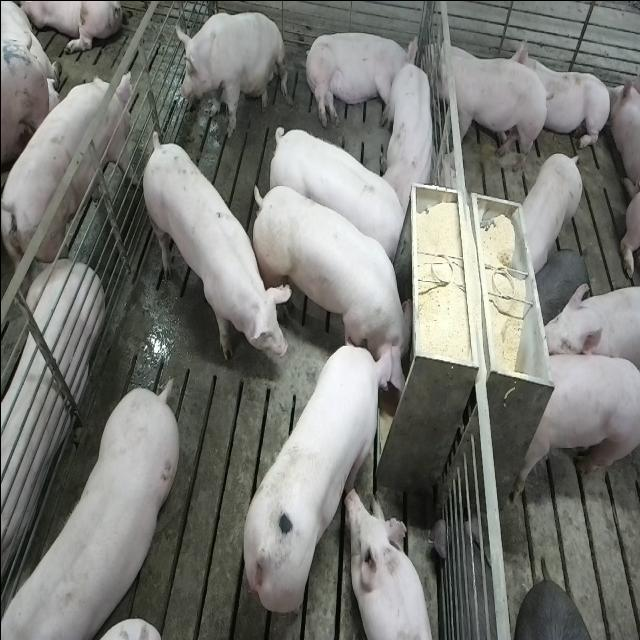Feeding: (240, 336, 397, 620), (253, 178, 420, 386)
Lateral_lying: (0, 256, 101, 604), (302, 28, 418, 128)
Sitting: (173, 8, 286, 138)
Standing: (0, 380, 176, 640), (136, 129, 284, 384), (0, 67, 132, 276), (268, 122, 408, 264), (509, 353, 639, 503), (424, 30, 549, 172), (540, 278, 640, 384), (515, 150, 583, 276)
Sternal_lying: (346, 488, 434, 640), (513, 34, 611, 155), (381, 52, 436, 208)
